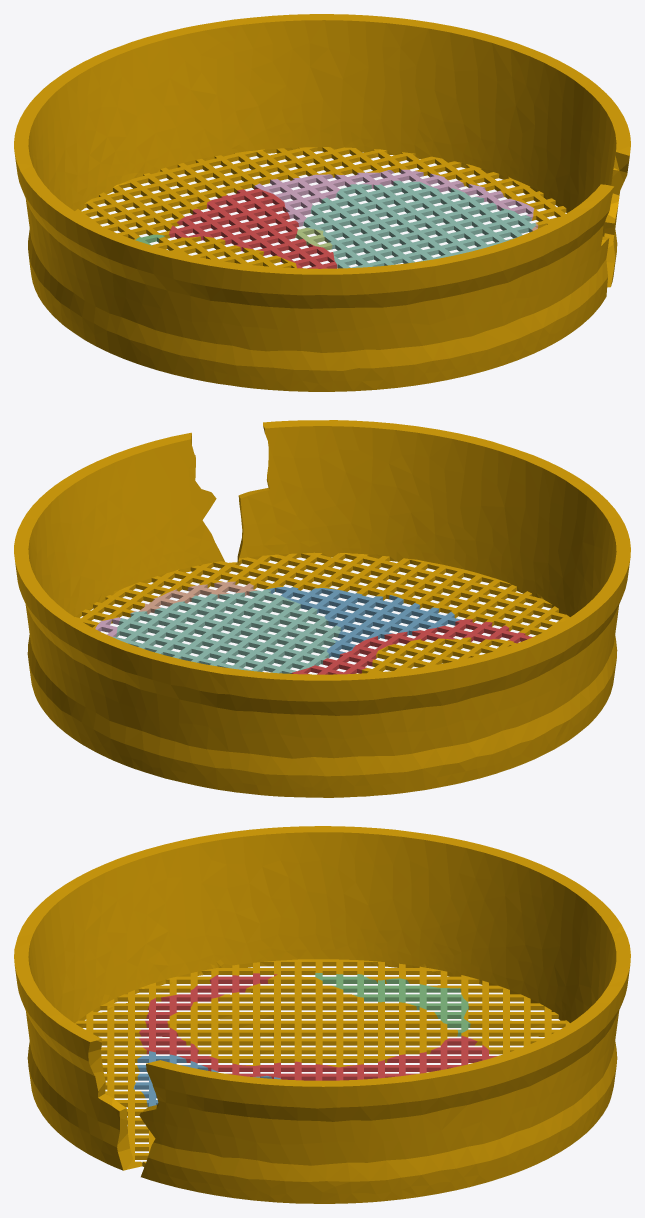
File: fractured_51_8pcs.glb
The picture shows the model from 3 angles, top to bottom: view 1: azimuth 30°, elevation 25°; view 2: azimuth 150°, elevation 25°; view 3: azimuth 270°, elevation 25°; orthographic projection.
Visible parts, largest first — view 1: piece_0.obj, piece_4.obj, piece_1.obj, piece_6.obj; view 2: piece_0.obj, piece_4.obj, piece_2.obj, piece_1.obj, piece_7.obj; view 3: piece_0.obj, piece_1.obj, piece_3.obj, piece_2.obj.
Part boxes in pixels (left/top/right/bottom): piece_0.obj: left=14, top=14, right=630, bottom=391; piece_4.obj: left=303, top=180, right=535, bottom=268; piece_1.obj: left=169, top=187, right=337, bottom=268; piece_6.obj: left=254, top=169, right=534, bottom=226; piece_0.obj: left=14, top=420, right=630, bottom=797; piece_4.obj: left=113, top=589, right=340, bottom=673; piece_2.obj: left=266, top=586, right=460, bottom=658; piece_1.obj: left=291, top=619, right=532, bottom=674; piece_7.obj: left=130, top=581, right=257, bottom=616; piece_0.obj: left=14, top=826, right=630, bottom=1203; piece_1.obj: left=139, top=973, right=497, bottom=1080; piece_3.obj: left=315, top=973, right=470, bottom=1036; piece_2.obj: left=133, top=1051, right=280, bottom=1106.
Bounding box in the file's own units: 1 × 0.2226 × 0.9999.
